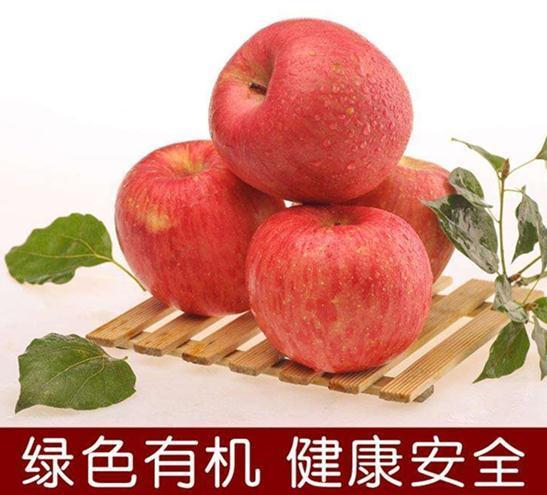apple: (207, 15, 414, 206), (112, 136, 285, 317), (248, 206, 431, 372), (363, 155, 456, 289)
